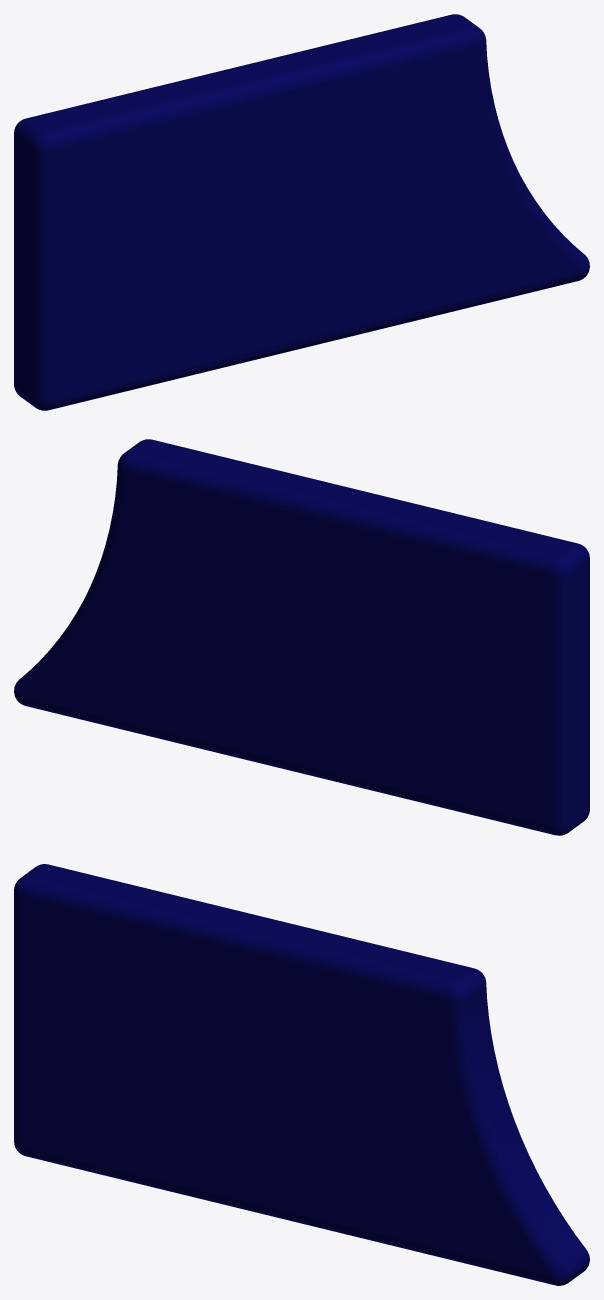
Rendered from infoPanel_BL.obj.
3 views of the same model, one above another, from view 1: azimuth 30°, elevation 25°; view 2: azimuth 150°, elevation 25°; view 3: azimuth 330°, elevation 25° (orthographic).
Visible parts, largest first — view 1: Obj_000001; view 2: Obj_000001; view 3: Obj_000001.
Part boxes in pixels (x1,y1,x2,y2): Obj_000001: (14,14,589,410); Obj_000001: (14,439,589,835); Obj_000001: (14,864,589,1285).
Bounding box in the file's own units: 1.05 × 0.5 × 0.1.
1 material, 1 textured.
